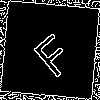F: (25, 25, 78, 80)
